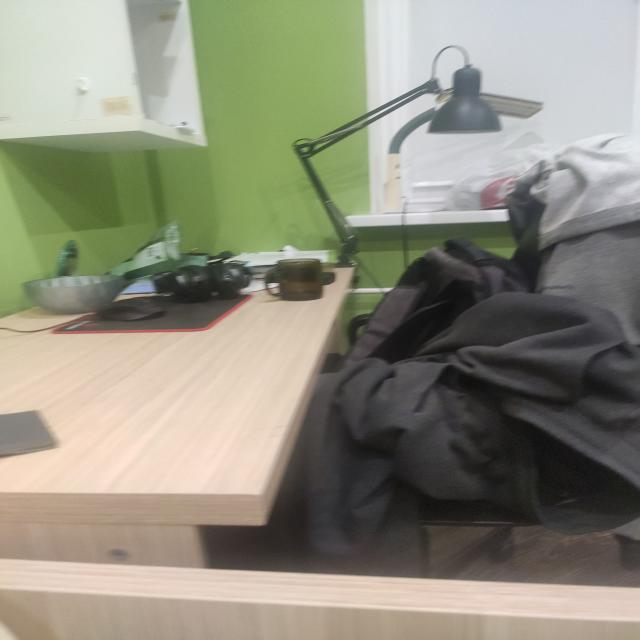cups: (263, 259, 321, 300)
